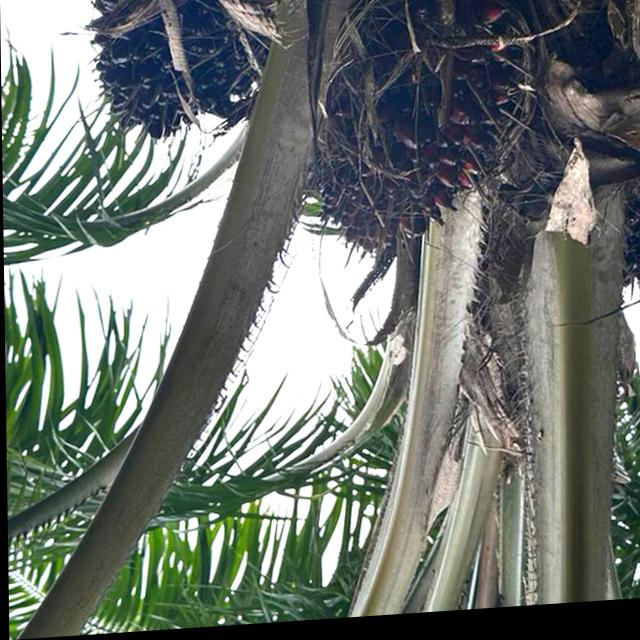ripe: (312, 28, 498, 273), (92, 0, 240, 154)
